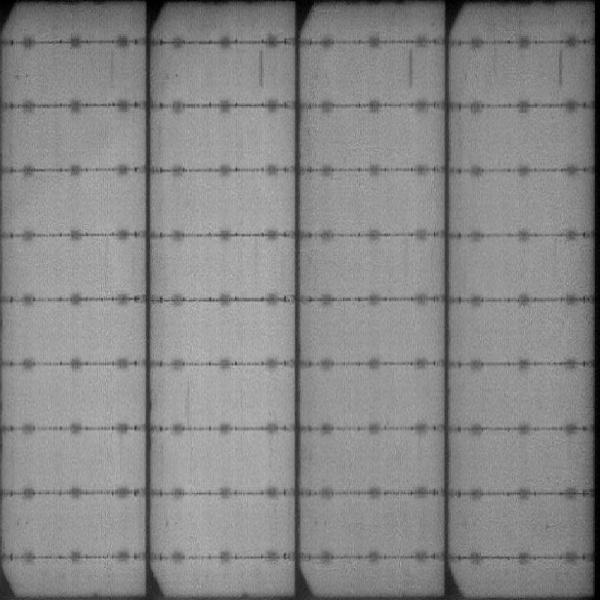scratch: (405, 47, 418, 89), (254, 49, 268, 85), (557, 44, 564, 86)
